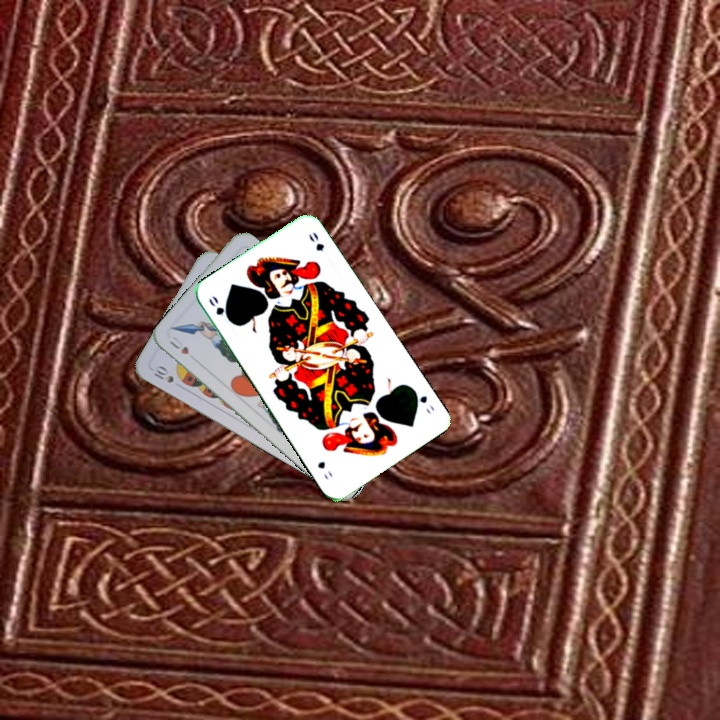GO: (204, 292, 236, 326), (408, 384, 437, 417)
HU: (165, 332, 192, 357)
S10: (149, 363, 176, 386)
